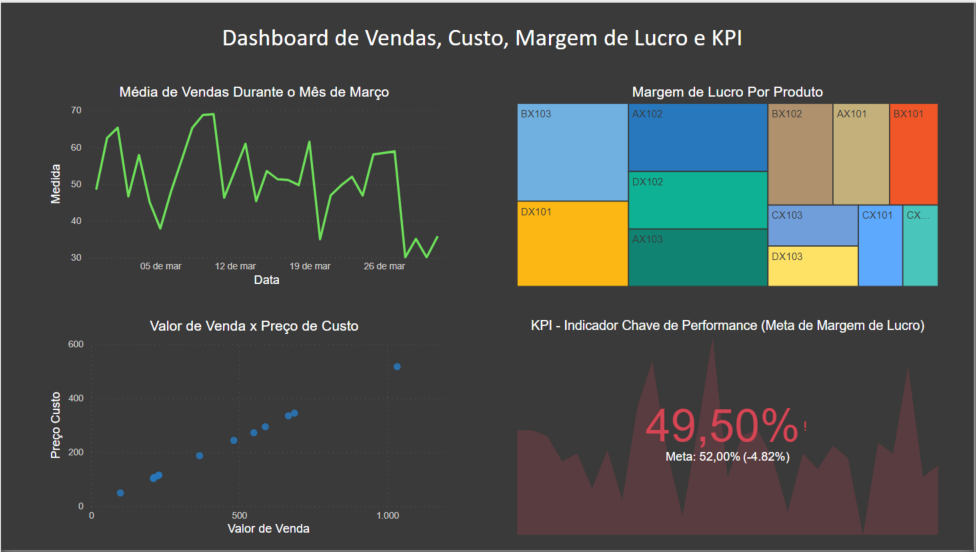

Layout of this report page (visuals, bound fields, positions):
{"tool":"powerbi","page":{"name":"Página 1","canvas":[1280,720],"ordinal":0},"visuals":[{"type":"lineChart","title":"Média de Vendas Durante o Mês de Março","fields":{"Category":["Custos.Data"],"Y":["Custos.Medida"]},"box":[58.6,106.5,547.9,271.6],"z":0},{"type":"treemap","title":"Margem de Lucro Por Produto","fields":{"Values":["Sum(Custos.Coluna)"],"Group":["Custos.Produto"]},"box":[673.5,106.5,564.6,271.6],"z":1000},{"type":"scatterChart","title":"Valor de Venda x Preço de Custo","fields":{"X":["Sum(Custos.Valor de Venda)"],"Y":["Sum(Custos.Preço Custo)"],"Category":["Custos.Produto"]},"box":[58.6,413.9,547.9,290.7],"z":2000},{"type":"kpi","title":"KPI - Indicador Chave de Performance (Meta de Margem de Lucro)","fields":{"Indicator":["Avg(Custos.Coluna)"],"Goal":["Max(Custos.Coluna)"],"TrendLine":["Custos.Data.Variation.Hierarquia de datas.Dia"]},"box":[673.5,413.9,564.6,290.7],"z":3000},{"type":"textbox","box":[69.4,20.3,1126.9,76.6],"z":3001}]}

Visuals, with their boxes in screenshot pixels (x1, y1, x2, y2), scaled from the page's 1280x720 canvas onto the 976x552 screenshot:
"Média de Vendas Durante o Mês de Março" lineChart: 45 82 462 290
"Margem de Lucro Por Produto" treemap: 514 82 944 290
"Valor de Venda x Preço de Custo" scatterChart: 45 317 462 540
"KPI - Indicador Chave de Performance (Meta de Margem de Lucro)" kpi: 514 317 944 540
textbox: 53 16 912 74
